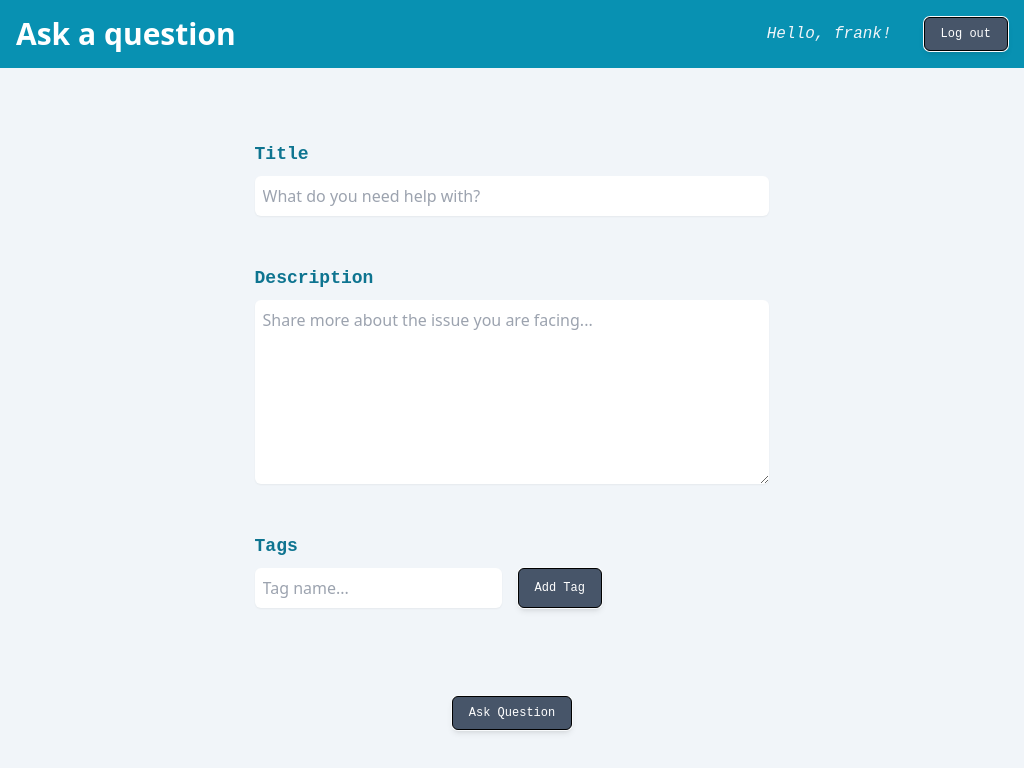
Test case: <NewQuestion /> › displays error if invalid post sent to server
This screenshot has width=1024, height=768.
expect the text "Title" is shown: met, box [255, 144, 309, 164]
expect the text "Description" is shown: met, box [255, 268, 373, 288]
Click the button "Ask Question". click: x=512, y=713
box: [452, 696, 572, 730]
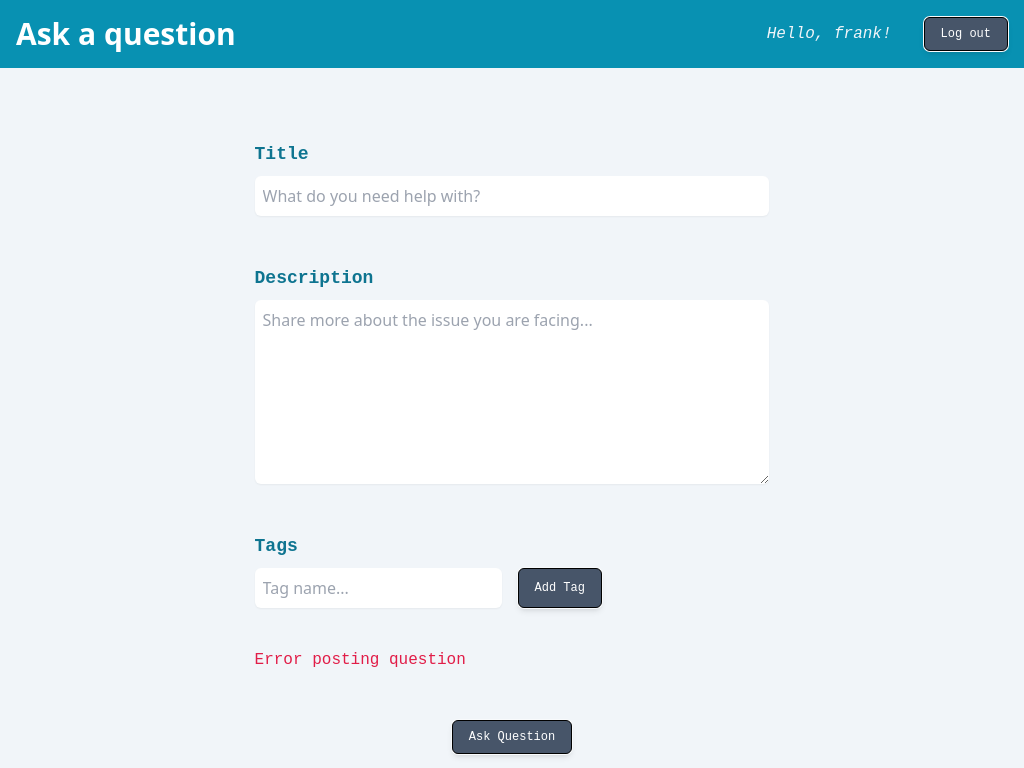
expect the text "Error posting question" is shown: met, box [255, 651, 466, 669]
